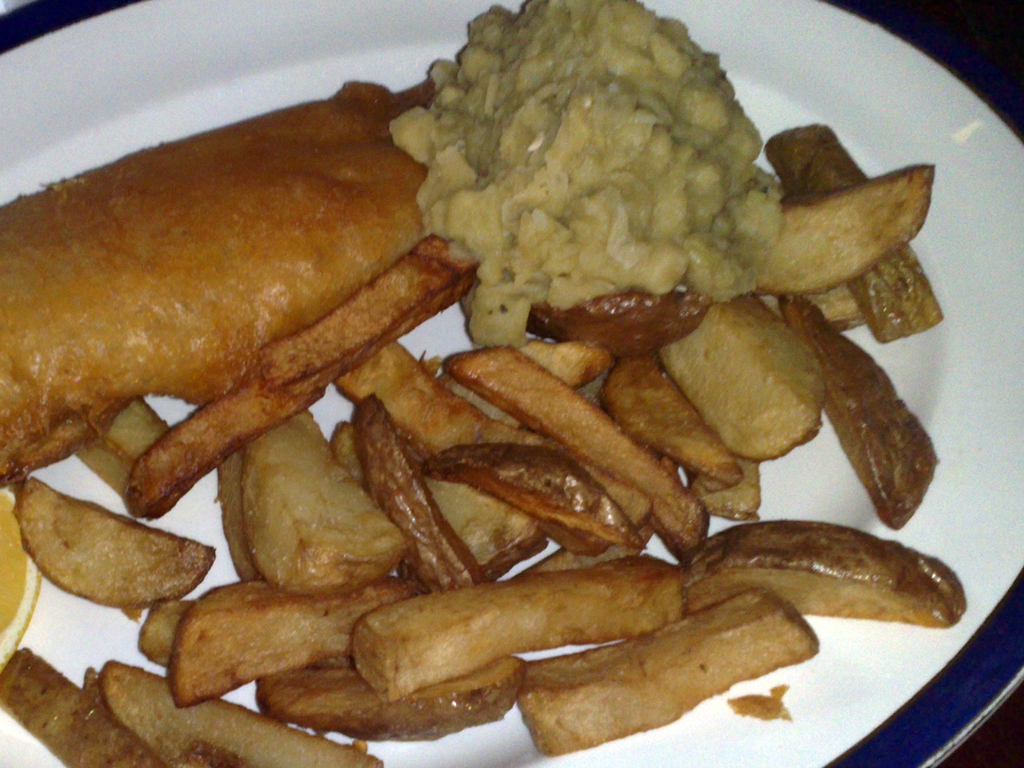French fries: (0, 112, 976, 767)
